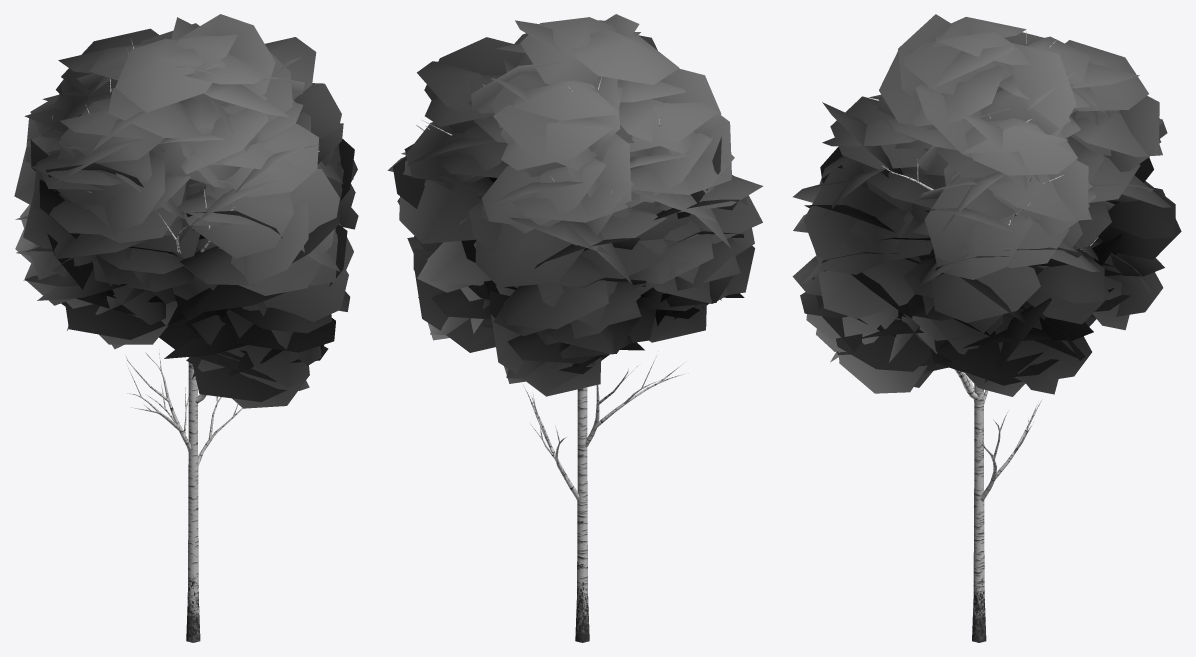
File: Tree_03_LODs.fbx
3 renders of one model, left to right at view 1: azimuth 30°, elevation 25°; view 2: azimuth 150°, elevation 25°; view 3: azimuth 270°, elevation 25°, orthographic.
Parts seen in each view (by area): view 1: Tree_03_LOD0; view 2: Tree_03_LOD0; view 3: Tree_03_LOD0.
Part boxes in pixels (bbox=[...]): Tree_03_LOD0: bbox=[14, 14, 358, 642]; Tree_03_LOD0: bbox=[387, 14, 763, 642]; Tree_03_LOD0: bbox=[792, 14, 1181, 642].
Size of what is drawn, in the model's own units: 586 by 1034 by 596.
